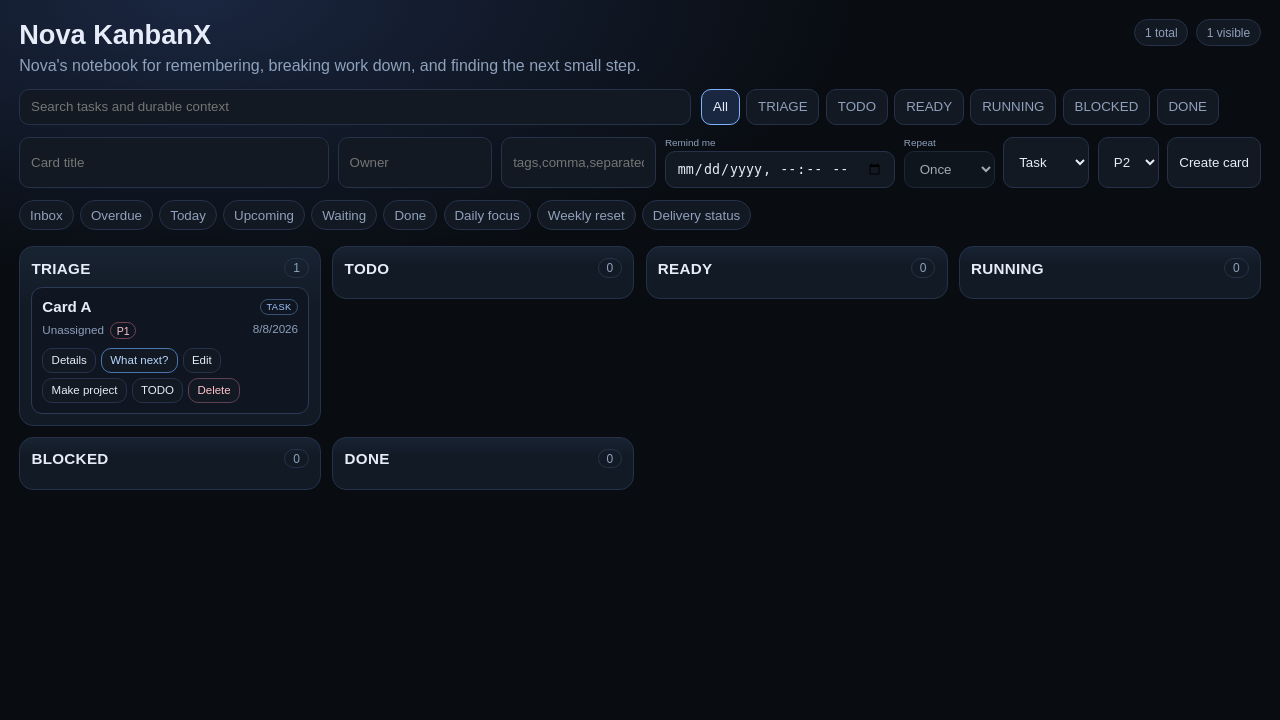
Test: App optimistic behavior › deletes a card and reloads from API
Expected: the text "Card A" is shown, [42,298,92,315]
Click the button "Delete".
click(214, 390)  # box [188,378,240,403]
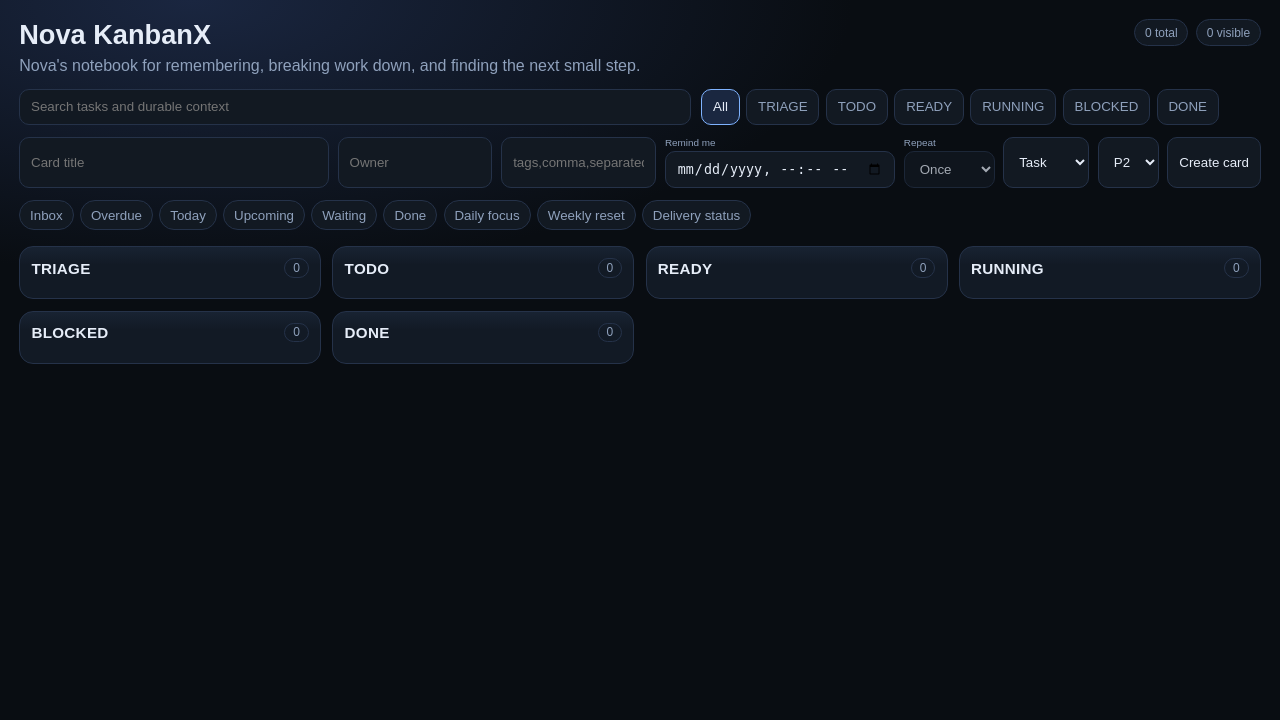
Expected: the heading "Card A" is gone
